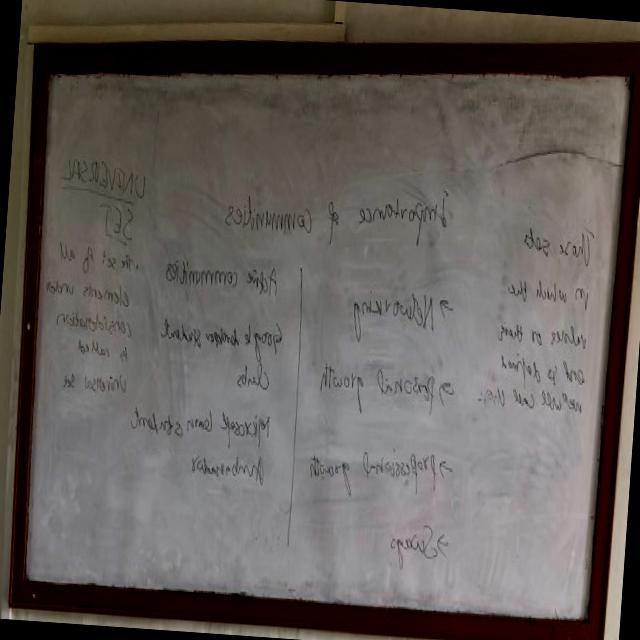White-board: (18, 44, 640, 630)
